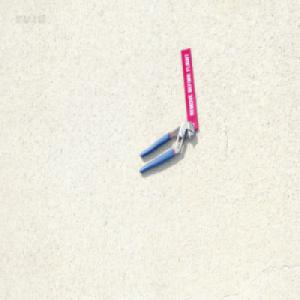Label: (180, 48, 199, 130)
Pliers: (138, 120, 195, 174)
